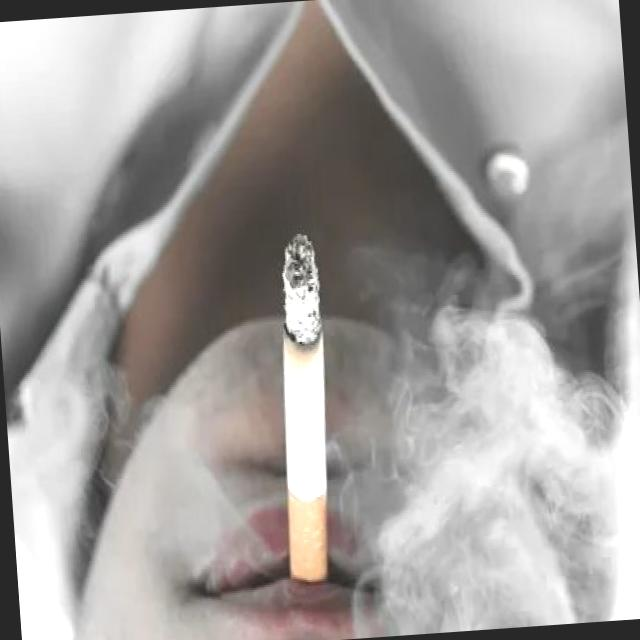smoke: (260, 224, 344, 583)
